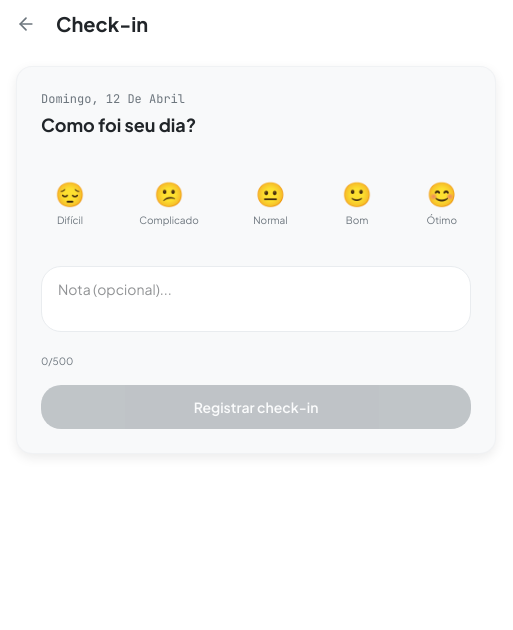
Checkin Page — Friend Streak Feedback › shows multiple friend streaks after check-in
What coordinates should you click on to do the following:
click the button "🙂 Bom"
I would click on:
 (357, 202)
Its box is 328,163 -> 386,242.
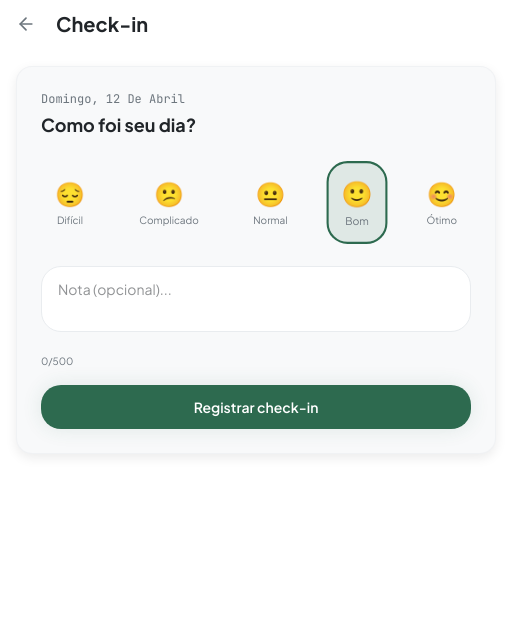
What coordinates should you click on to do the following:
click the button "Registrar check-in"
I would click on:
 (256, 407)
Its box is 41,385 -> 471,429.
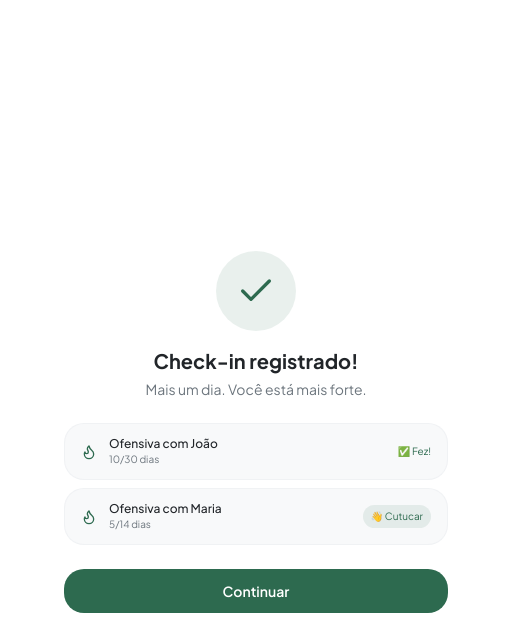
Result: the text "Ofensiva com João" is shown at 109,436 -> 218,451
Result: the text "Ofensiva com Maria" is shown at 109,501 -> 222,516
